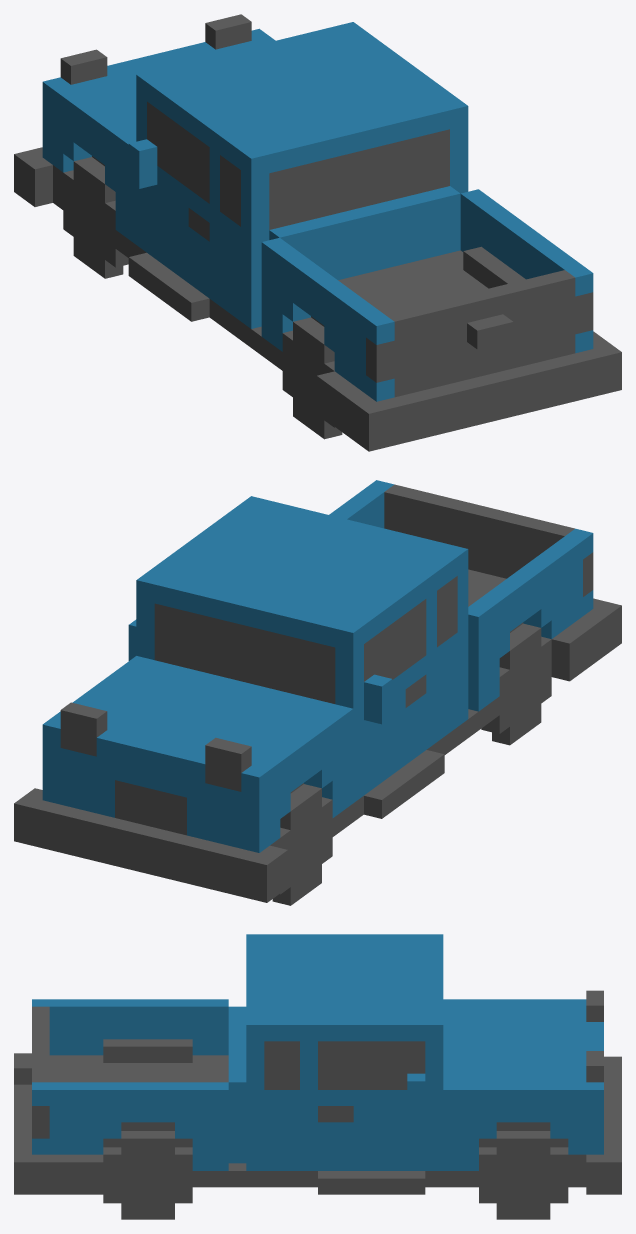
File: veh_truck5.obj
3 renders of one model, top to bottom at view 1: azimuth 30°, elevation 25°; view 2: azimuth 150°, elevation 25°; view 3: azimuth 270°, elevation 25°, orthographic. The views are drawn at different scales.
Size of the model in its own units: 14 by 12 by 34.
